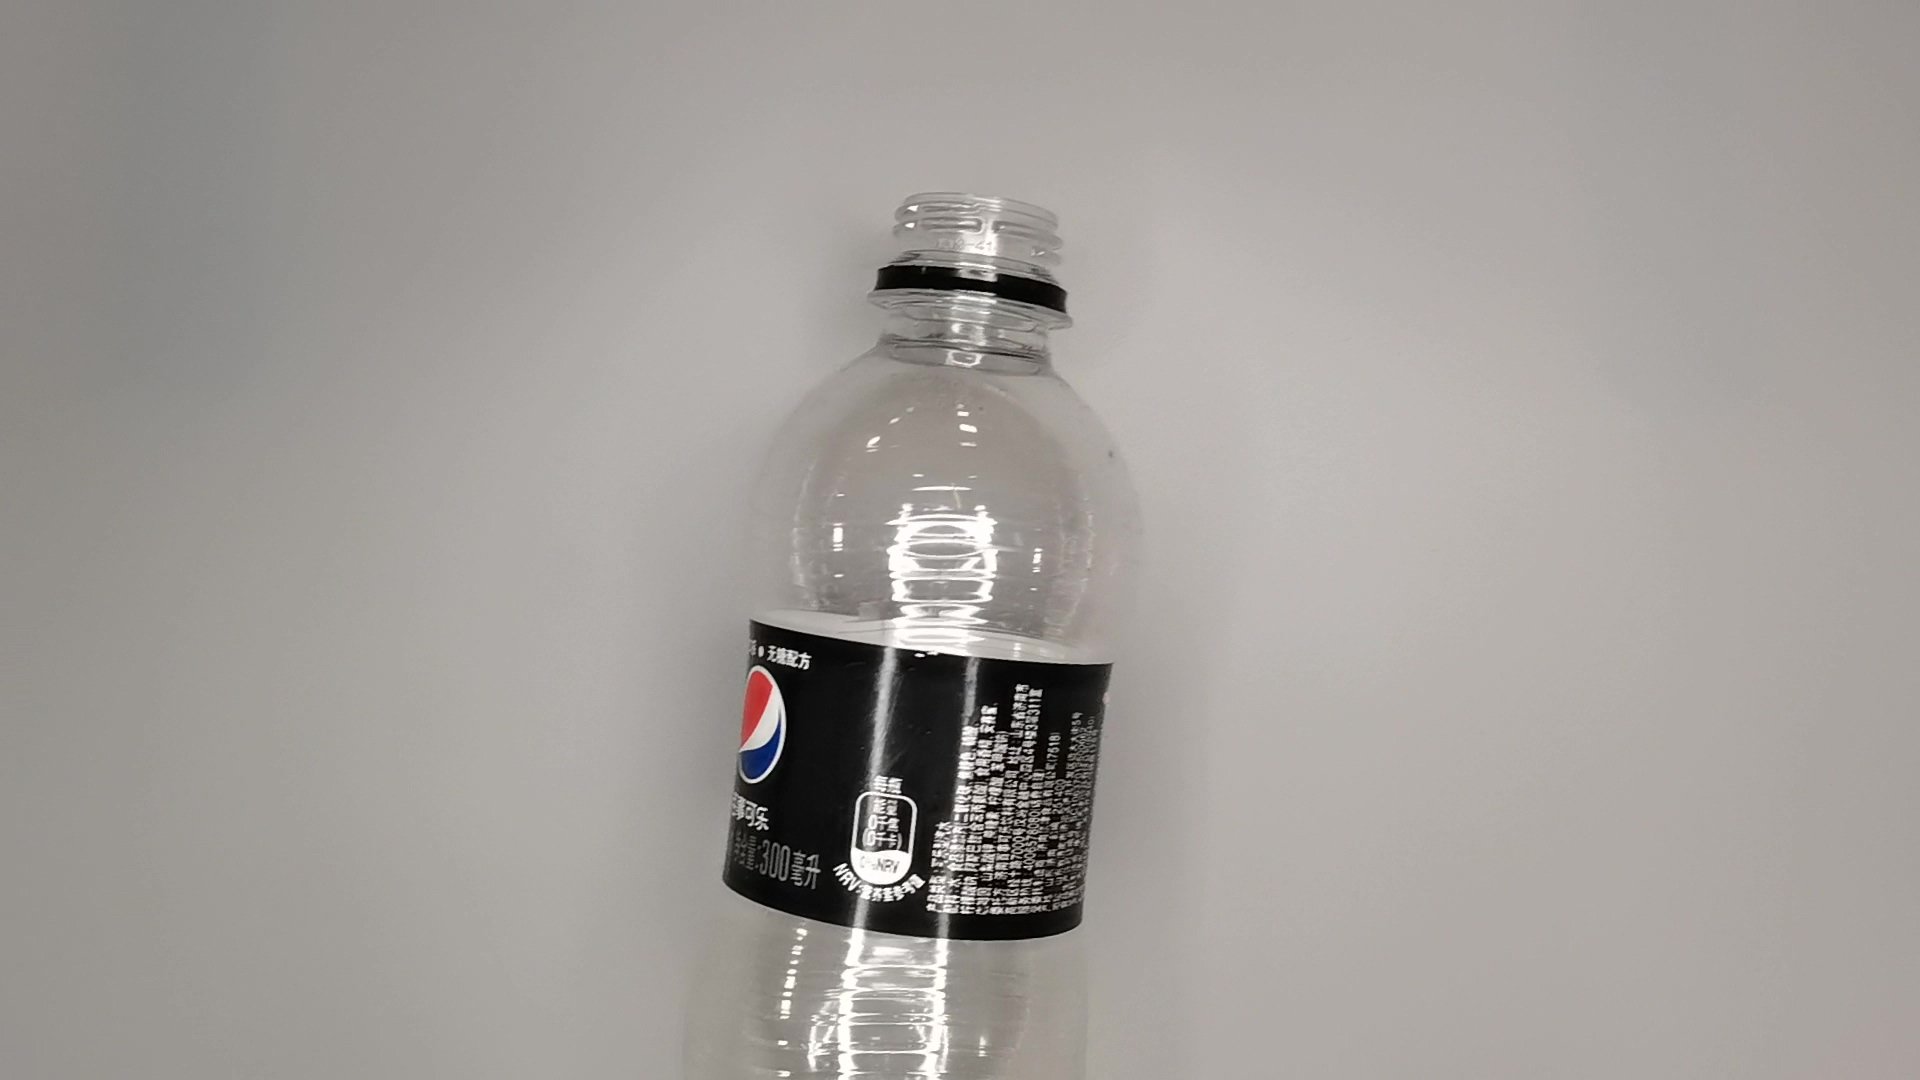bottle: (699, 183, 1130, 1080)
